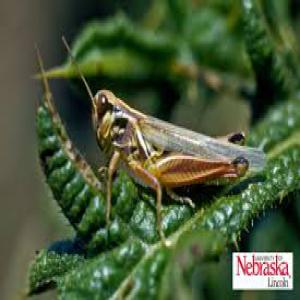locust: (82, 60, 272, 235)
